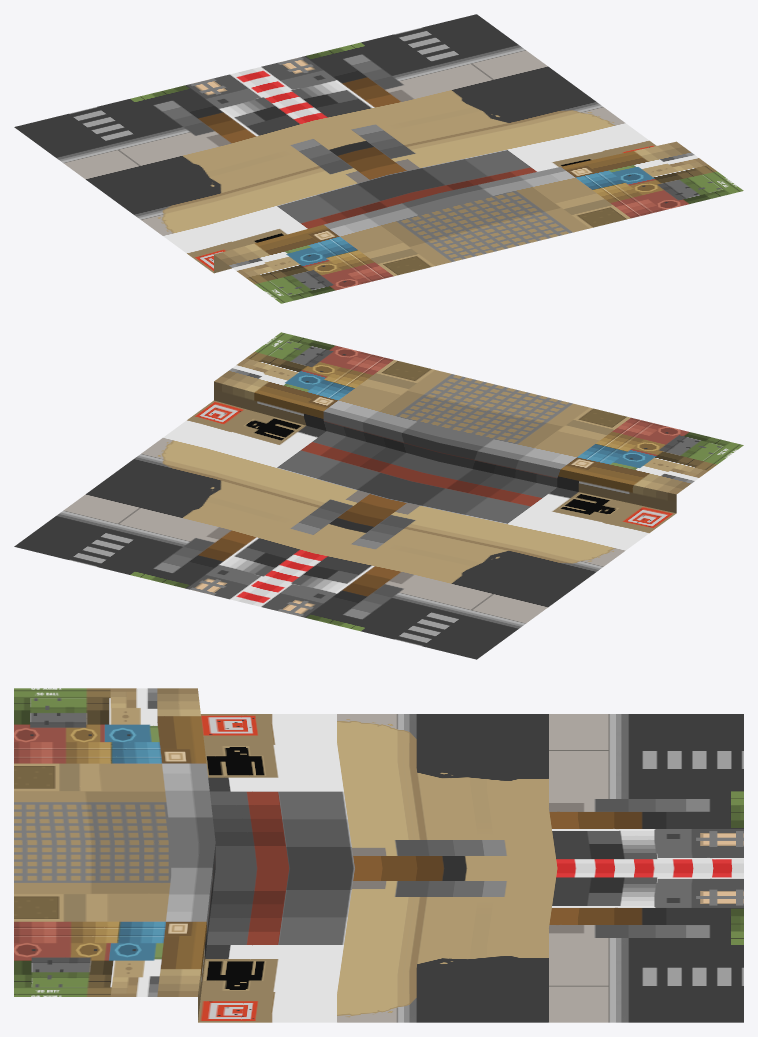
File: road_Dirt_Short.gltf
3 renders of one model, top to bottom at view 1: azimuth 30°, elevation 25°; view 2: azimuth 150°, elevation 25°; view 3: azimuth 270°, elevation 25°, orthographic. The views are drawn at different scales.
Visible parts, largest first — view 1: road_Dirt_Short; view 2: road_Dirt_Short; view 3: road_Dirt_Short.
Part boxes in pixels (<box>): road_Dirt_Short: <box>14,14,743,303</box>; road_Dirt_Short: <box>14,332,743,659</box>; road_Dirt_Short: <box>14,688,743,1022</box>.
Bounding box in the file's own units: 5 × 0.1948 × 5.
1 material, 1 textured.
